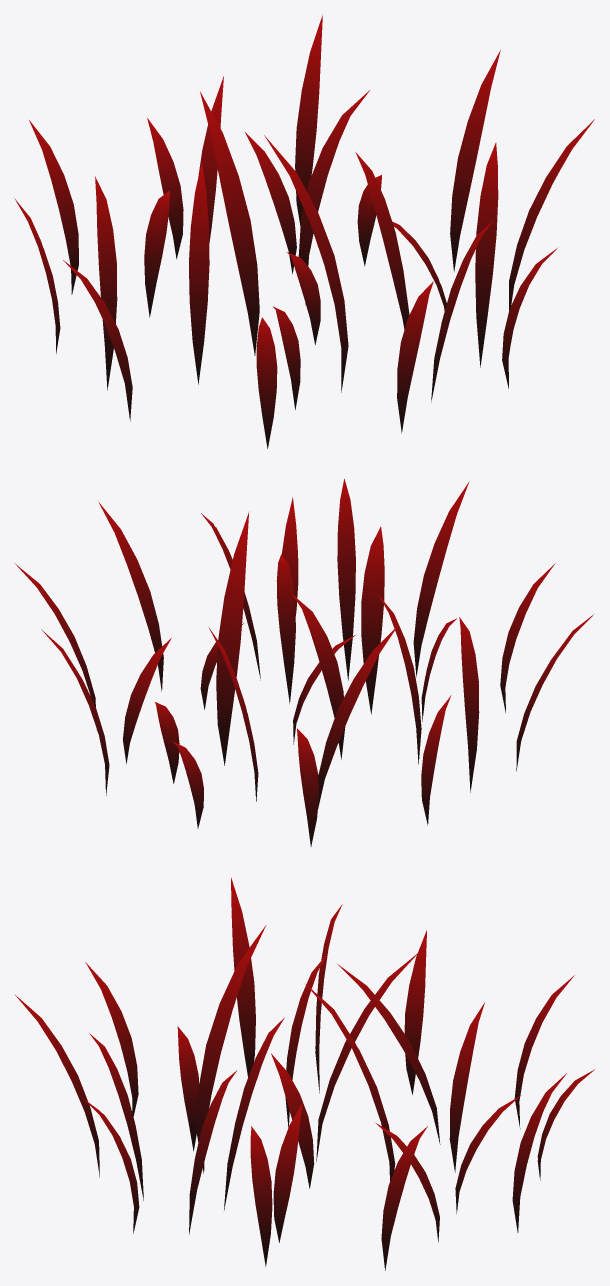
File: Grass(new).fbx
3 renders of one model, top to bottom at view 1: azimuth 30°, elevation 25°; view 2: azimuth 150°, elevation 25°; view 3: azimuth 270°, elevation 25°, orthographic. The views are drawn at different scales.
Visible parts, largest first — view 1: grass; view 2: grass; view 3: grass.
Part boxes in pixels (x1,y1,x2,y2): grass: (14,14,594,448); grass: (14,479,593,846); grass: (15,877,594,1270).
Bounding box in the file's own units: 3.3 × 1.43 × 3.25.
